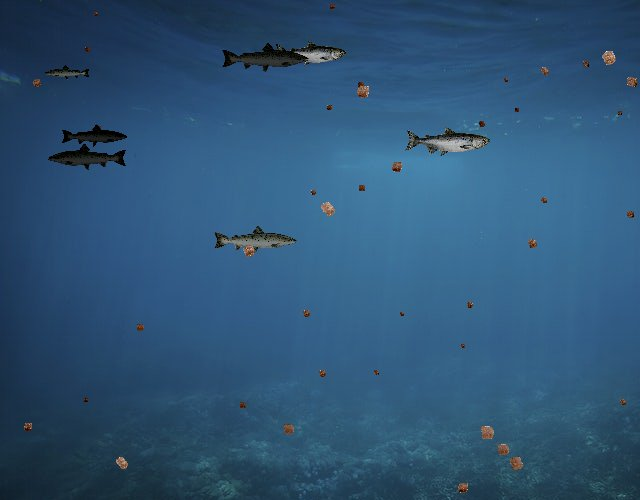Fish: (220, 41, 310, 73), (212, 224, 298, 255), (404, 126, 490, 157), (48, 143, 128, 172), (274, 40, 347, 66), (61, 124, 129, 148), (44, 64, 91, 81)
Pellet: (312, 194, 342, 223), (473, 419, 501, 447), (491, 438, 515, 462), (522, 233, 542, 253), (307, 187, 320, 200), (326, 1, 338, 13), (458, 340, 468, 350)
